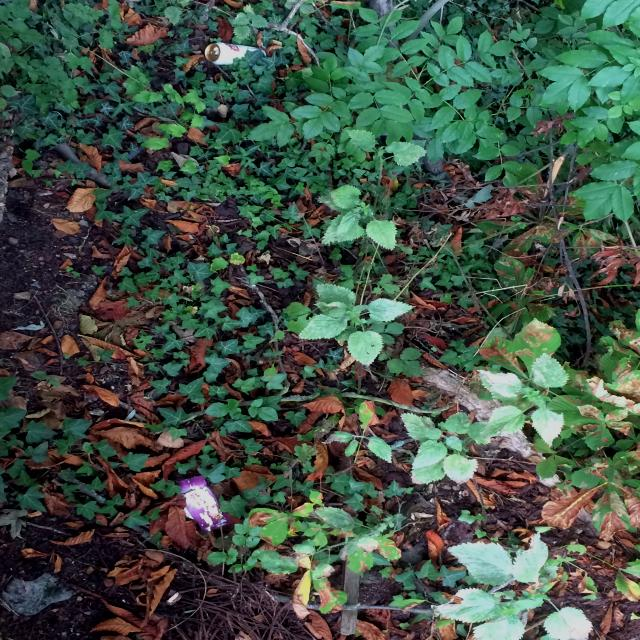Drink can: (204, 42, 266, 65)
Other plastic: (177, 476, 232, 533)
